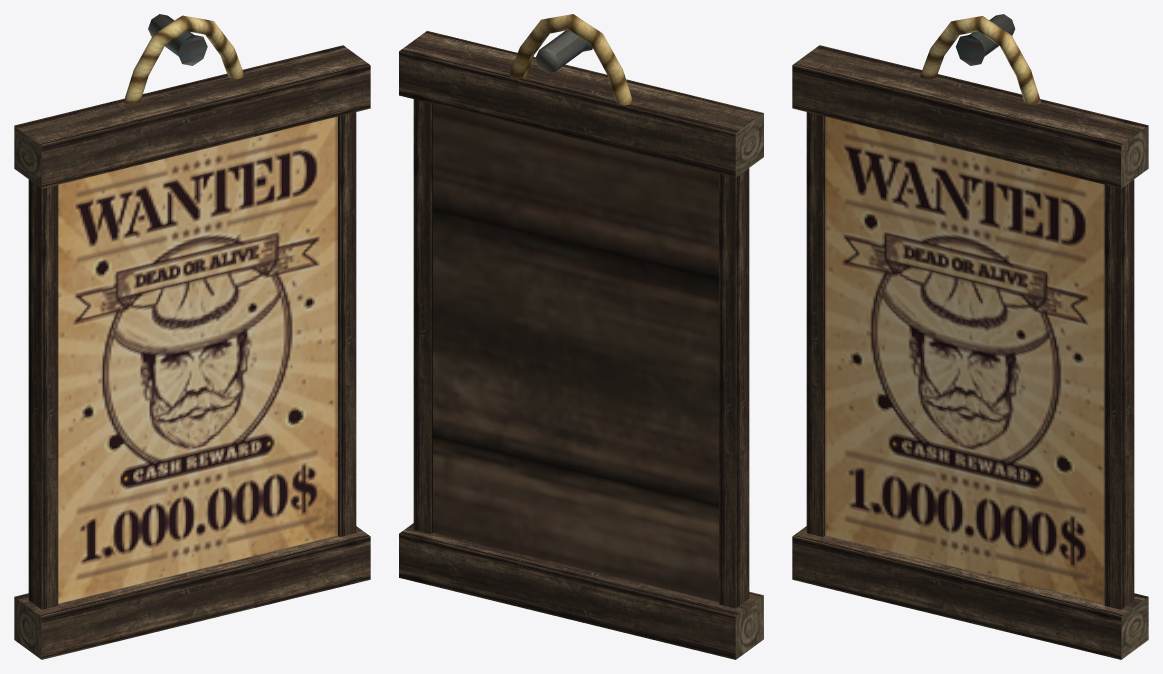
File: wanted-06.fbx
3 renders of one model, left to right at view 1: azimuth 30°, elevation 25°; view 2: azimuth 150°, elevation 25°; view 3: azimuth 330°, elevation 25°, orthographic. The views are drawn at different scales.
Parts seen in each view (by area): view 1: IronFence_door.001_Untitled.034; view 2: IronFence_door.001_Untitled.034; view 3: IronFence_door.001_Untitled.034.
Part boxes in pixels (<box>): IronFence_door.001_Untitled.034: <box>14,14,370,659</box>; IronFence_door.001_Untitled.034: <box>399,14,763,659</box>; IronFence_door.001_Untitled.034: <box>792,14,1148,659</box>.
Size of the model in its own units: 0.6705 by 1.14 by 0.1656.
